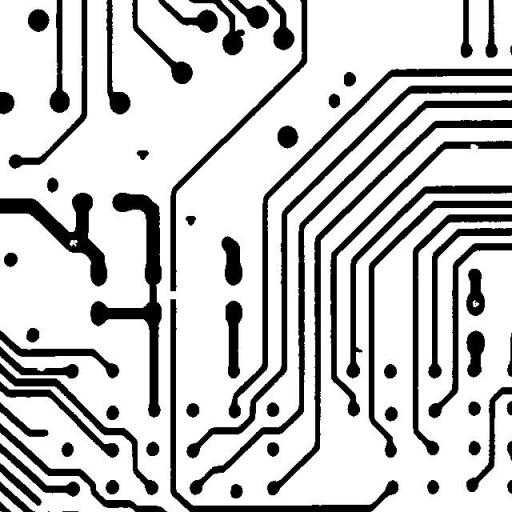copper: (129, 142, 156, 168), (178, 208, 203, 233)
mousebite: (28, 358, 54, 378), (462, 136, 486, 156)
open: (159, 284, 186, 306)
pin-hole: (62, 232, 84, 254), (465, 292, 486, 314)
short: (142, 272, 164, 314)
spur: (344, 338, 370, 360), (226, 22, 252, 44)
